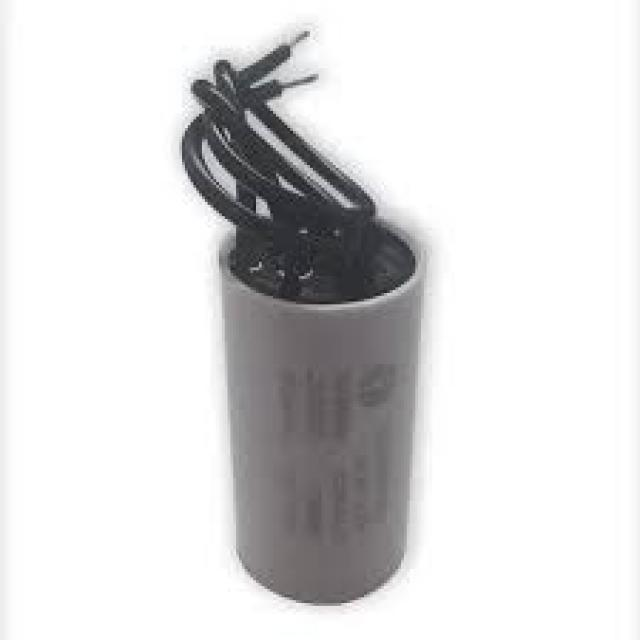Capacitor: (216, 219, 430, 609)
